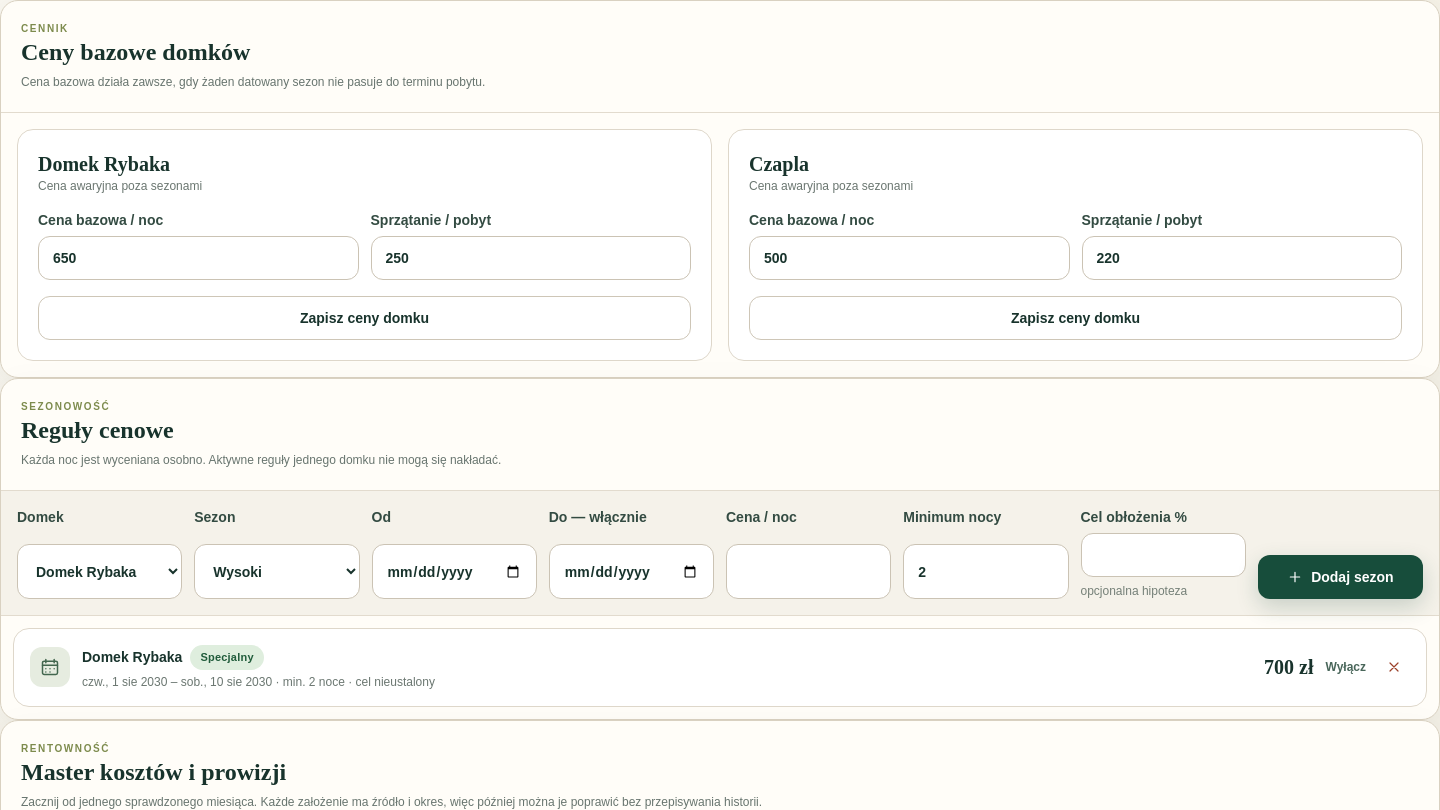
it: PricingSettings — trwałe reguły cenowe › potwierdza wyłączenie i wymaga potwierdzenia przed usunięciem
This screenshot has width=1440, height=810.
Click the button "Wyłącz". click: {"x": 1346, "y": 667}
box: [1326, 659, 1366, 675]
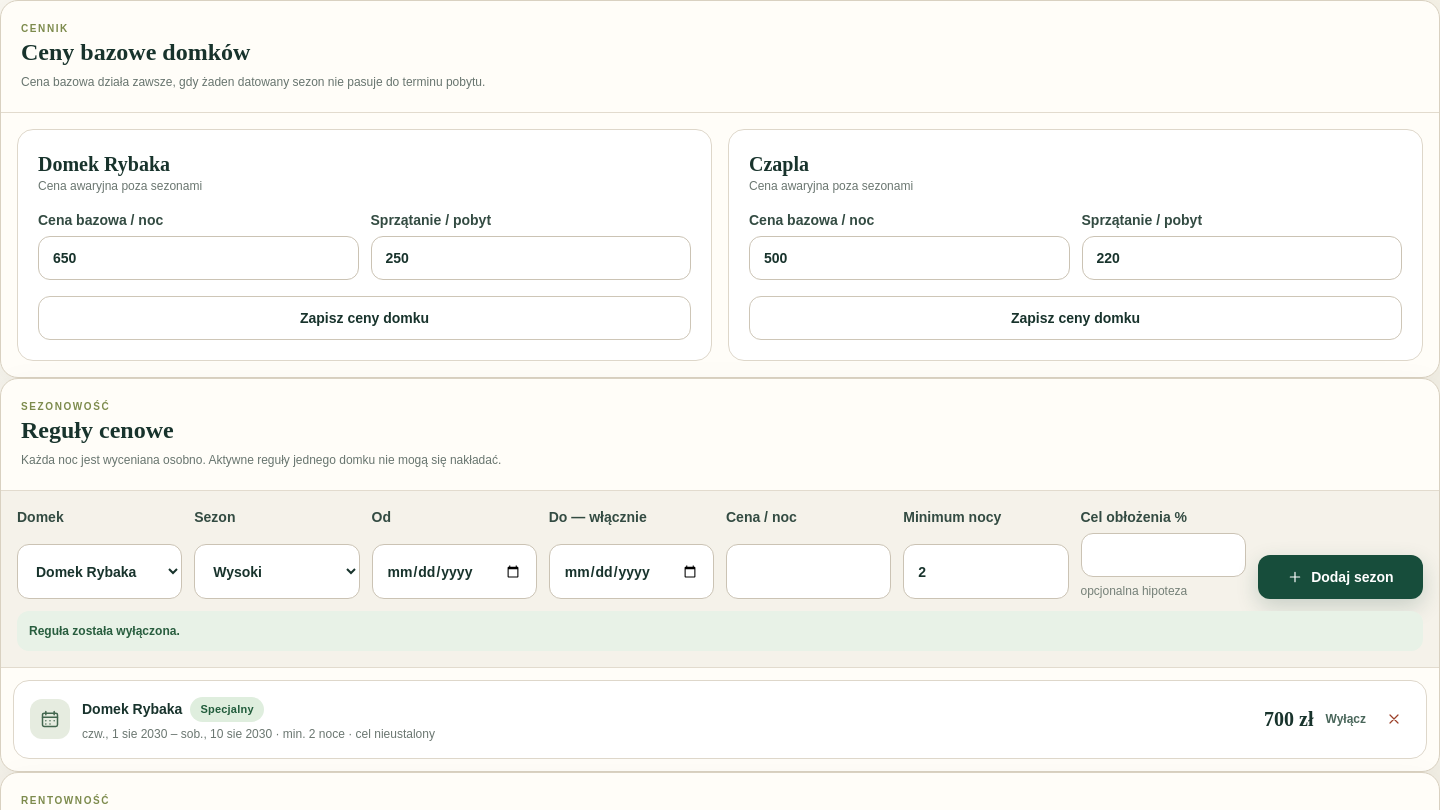
Expected: the text "Reguła została wyłączona." is shown, [17, 611, 1423, 651]
Click the button named "Usuń sezon Specjalny". click: {"x": 1394, "y": 719}
box: [1378, 703, 1410, 735]
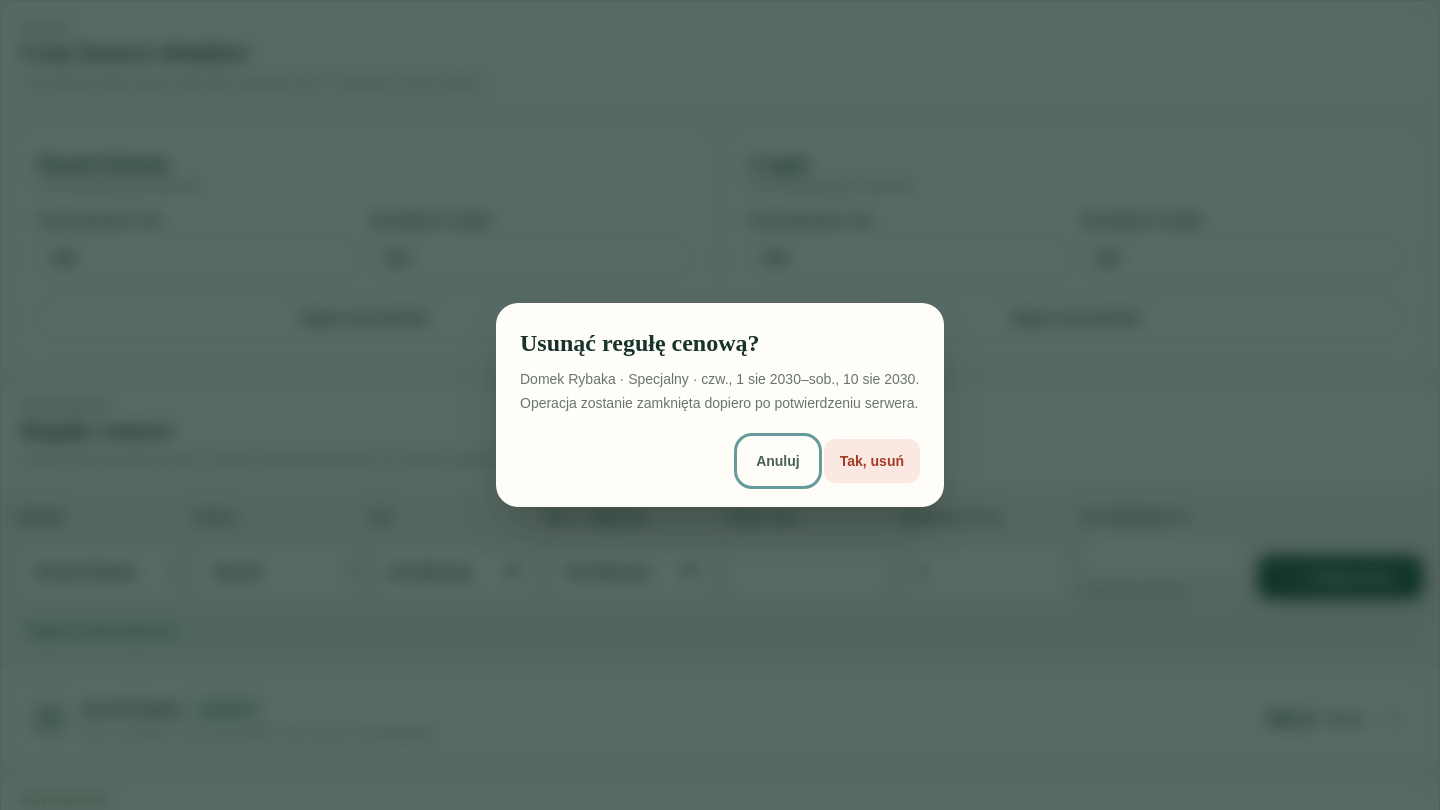
Expected: the dialog "Usunąć regułę cenową?" is shown, [496, 303, 944, 507]
Click the button "Tak, usuń". click: {"x": 872, "y": 461}
box: [824, 439, 920, 483]
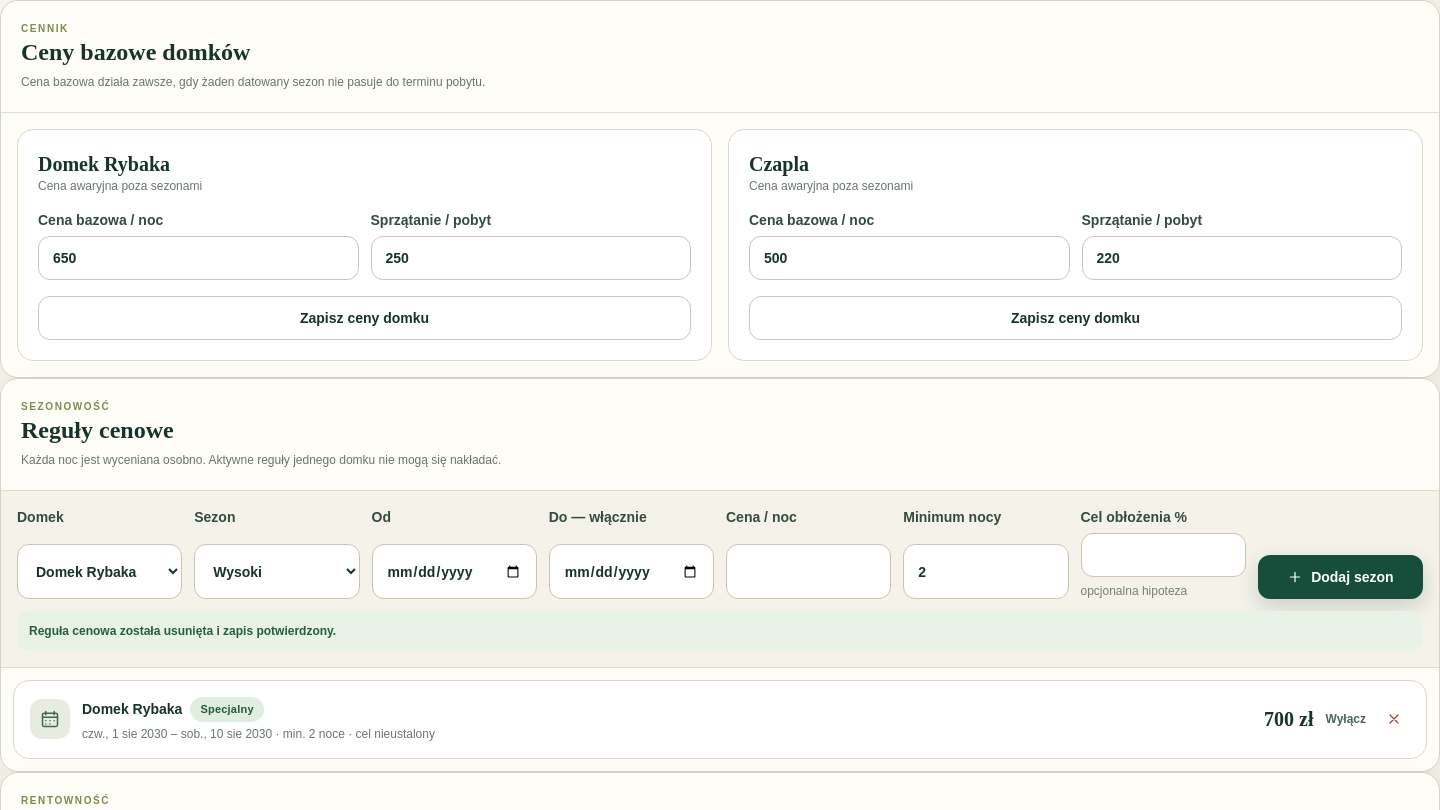
Expected: the text "Reguła cenowa została usunięta i zapis potwierdzony." is shown, [17, 611, 1423, 651]
